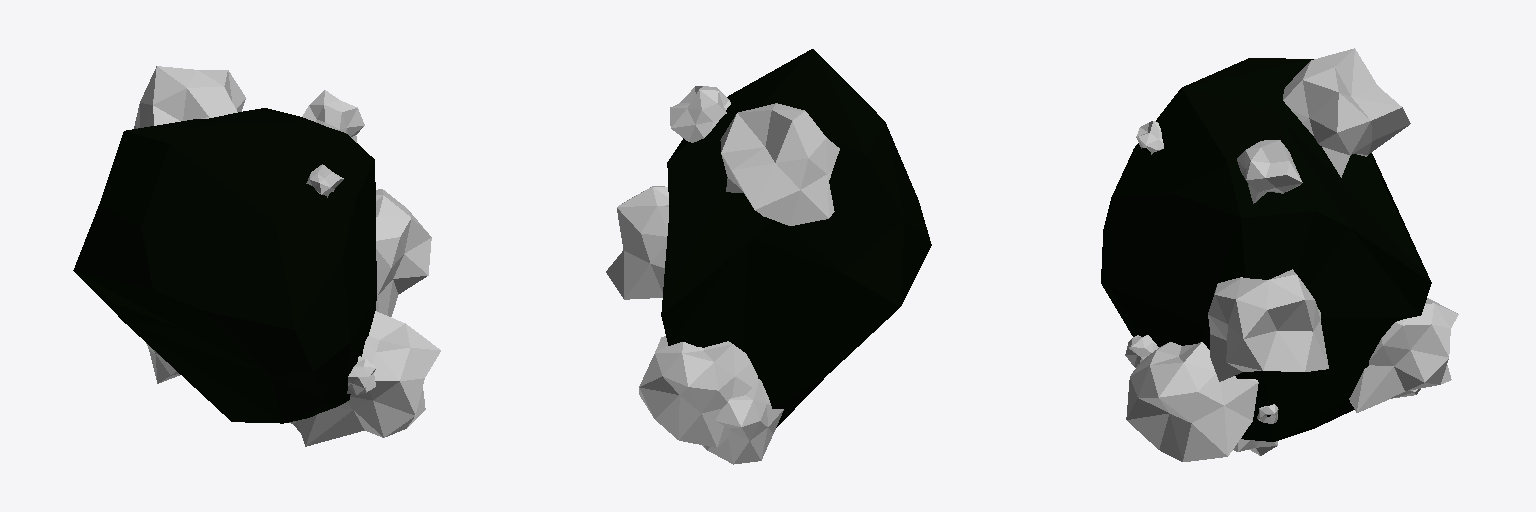
Rendered from Metal5.obj.
3 views of the same model, side by side, from view 1: azimuth 30°, elevation 25°; view 2: azimuth 150°, elevation 25°; view 3: azimuth 270°, elevation 25° (orthographic).
Visible parts, largest first — view 1: Icosphere.010_Icosphere.012, Icosphere.005_Icosphere.007; view 2: Icosphere.010_Icosphere.012, Icosphere.005_Icosphere.007; view 3: Icosphere.010_Icosphere.012, Icosphere.005_Icosphere.007.
Boxes of the visible parts, x1,y1,x2,y2 form: Icosphere.010_Icosphere.012: [73, 108, 376, 423]; Icosphere.005_Icosphere.007: [134, 66, 440, 446]; Icosphere.010_Icosphere.012: [661, 49, 931, 427]; Icosphere.005_Icosphere.007: [606, 86, 839, 464]; Icosphere.010_Icosphere.012: [1101, 58, 1431, 441]; Icosphere.005_Icosphere.007: [1125, 48, 1458, 461].
Bounding box in the file's own units: 1.25 × 1.34 × 1.23.